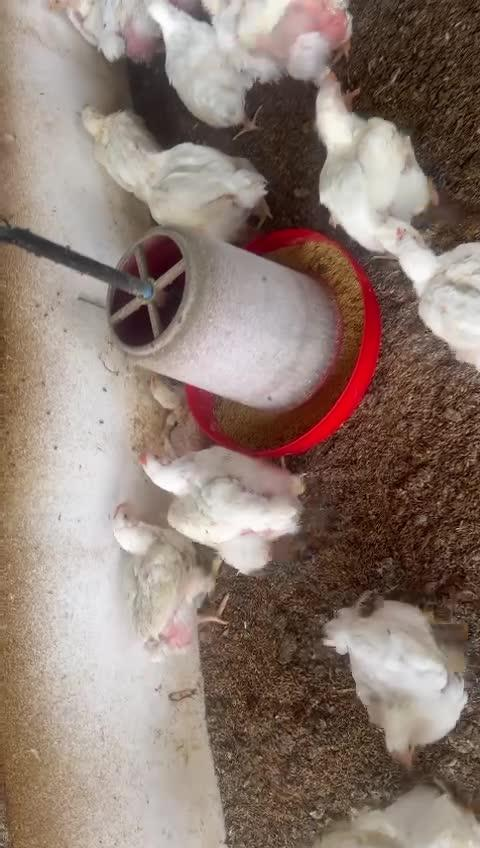AbNormal: (308, 582, 478, 765), (78, 490, 232, 648), (298, 75, 425, 242), (368, 208, 480, 370), (118, 0, 262, 125), (62, 82, 165, 200)
Normal: (125, 435, 350, 562), (120, 138, 278, 240), (218, 0, 362, 88)
